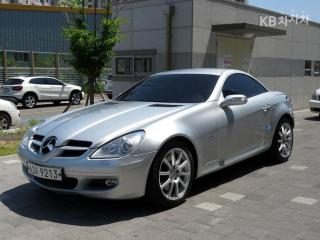1: (48, 169, 53, 179)
2: (45, 168, 49, 178), (32, 165, 35, 174)
3: (53, 169, 58, 179)
6: (29, 163, 32, 172)
9: (39, 167, 44, 177)
plate: (22, 158, 67, 186)
저: (34, 166, 39, 175)
